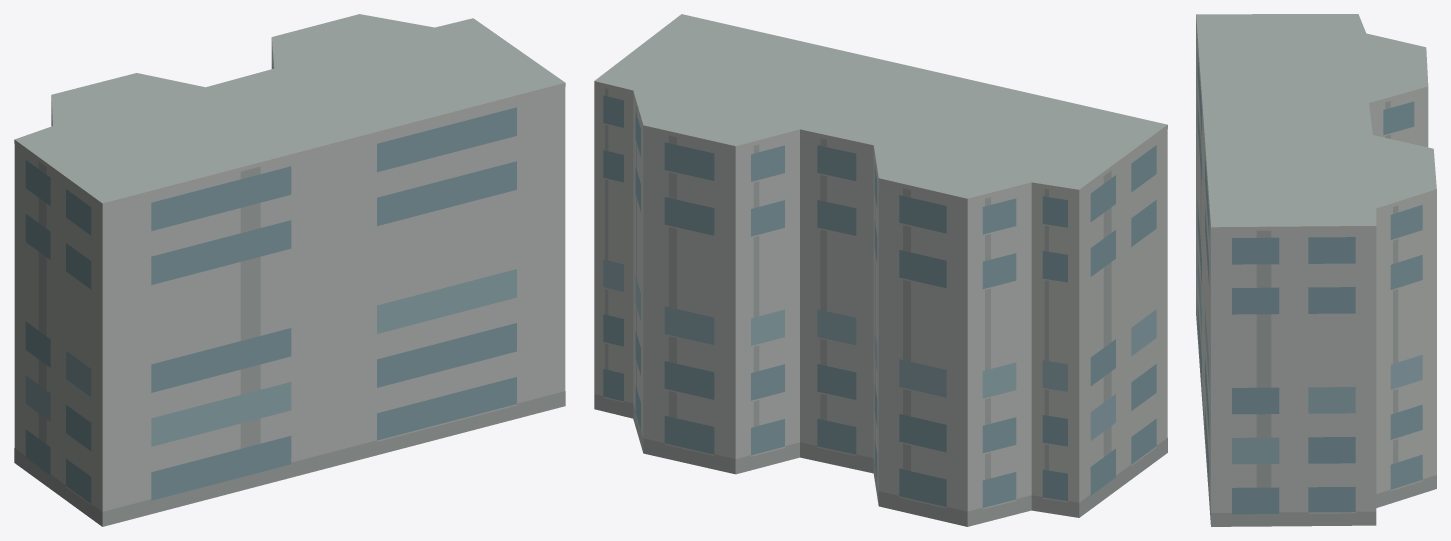
The model's file is survey-upis-32481431.glb.
The picture shows the model from 3 angles, left to right: view 1: azimuth 30°, elevation 25°; view 2: azimuth 150°, elevation 25°; view 3: azimuth 270°, elevation 25°; orthographic projection. The views are drawn at different scales.
Visible parts, largest first — view 1: survey-upis-32481431.tmp; view 2: survey-upis-32481431.tmp; view 3: survey-upis-32481431.tmp.
Part boxes in pixels (box(x1,y1,x2,y2)): survey-upis-32481431.tmp: box(14, 14, 565, 526); survey-upis-32481431.tmp: box(594, 14, 1167, 526); survey-upis-32481431.tmp: box(1196, 14, 1436, 526).
Bounding box in the file's own units: 27.93 × 18.3 × 13.33.
